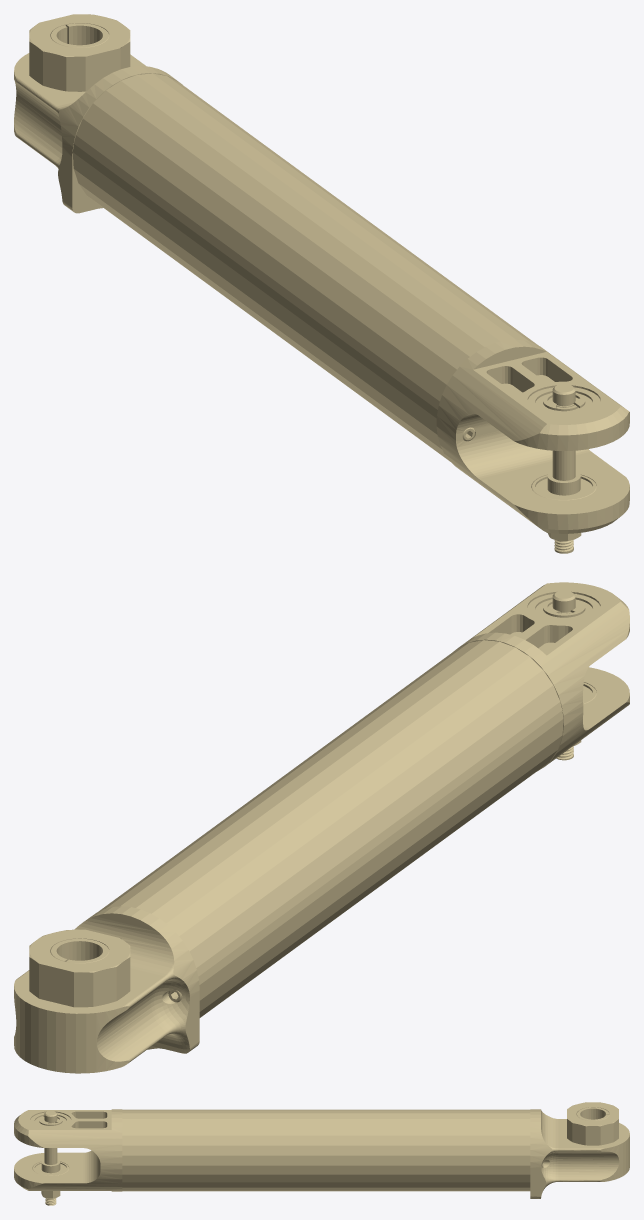
Rendered from femur.dae.
The picture shows the model from 3 angles, top to bottom: view 1: azimuth 30°, elevation 25°; view 2: azimuth 150°, elevation 25°; view 3: azimuth 270°, elevation 25°; orthographic projection. The views are drawn at different scales.
Visible parts, largest first — view 1: Femur; view 2: Femur; view 3: Femur.
Boxes of the visible parts, x1,y1,x2,y2 form: Femur: (14,14,629,553); Femur: (14,582,629,1073); Femur: (14,1102,629,1205).
Bounding box in the file's own units: 0.038 × 0.284 × 0.046.
